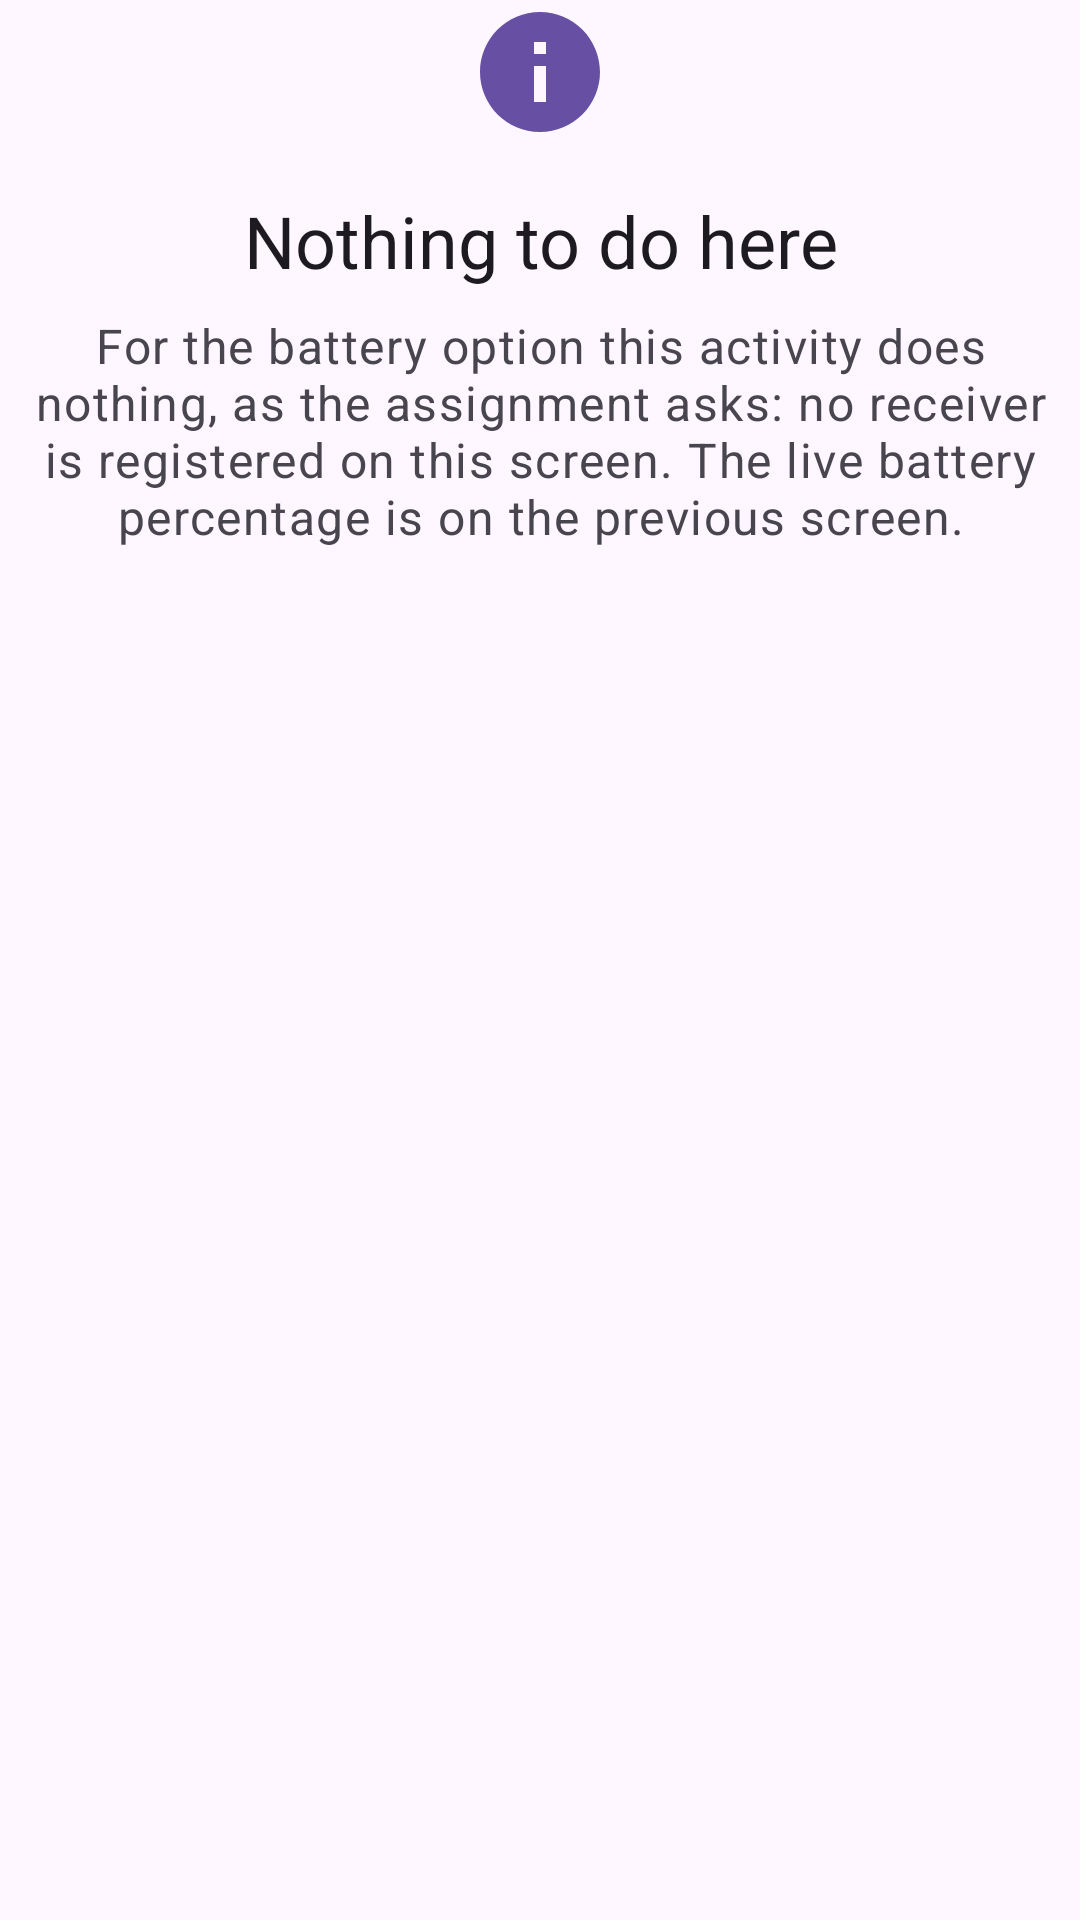

Icon click points for this 1080 × 1920 phone screenshot, format (x=x, y=y):
info: (x=540, y=72)
